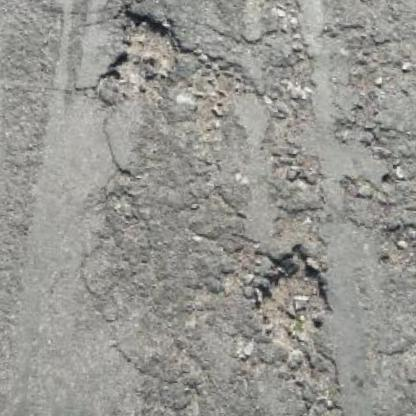pothole: (247, 237, 339, 352), (96, 1, 187, 107)
